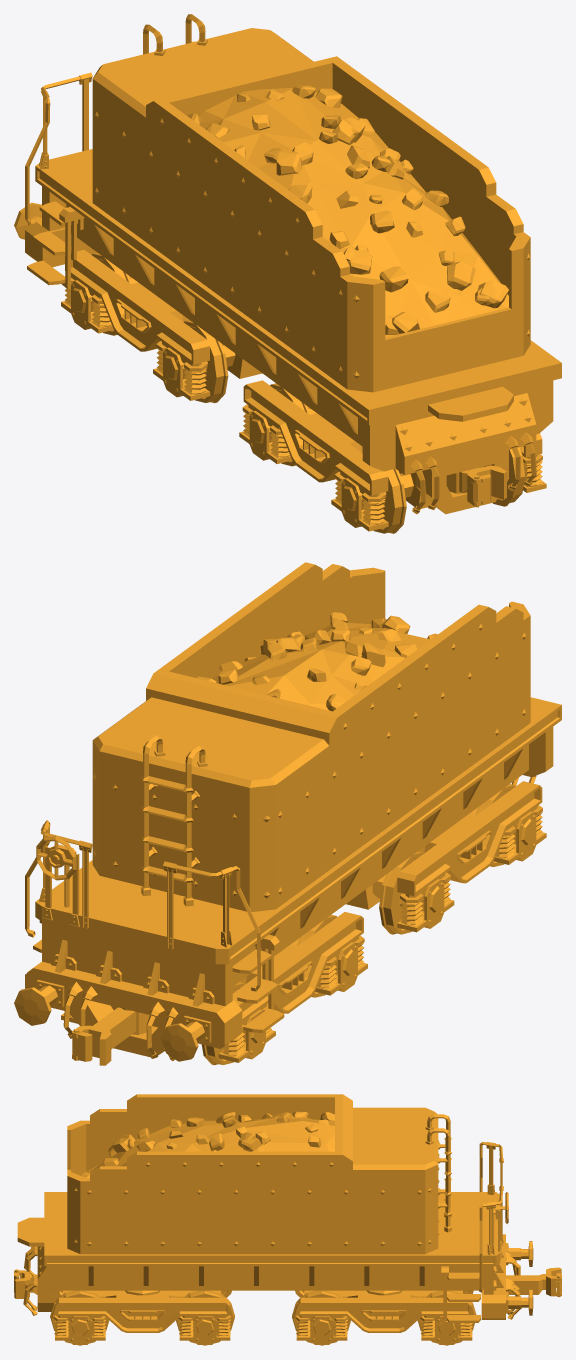
Rendered from SM_Train_Wagon_Steam.fbx.
3 renders of one model, top to bottom at view 1: azimuth 30°, elevation 25°; view 2: azimuth 150°, elevation 25°; view 3: azimuth 270°, elevation 25°, orthographic. The views are drawn at different scales.
Visible parts, largest first — view 1: SM_Train_Wagon_Steam_Base, SM_Train_Wagon_Steam_Base_Chassis_F, SM_Train_Wagon_Steam_Base_Chassis_B, SM_Train_Wagon_Steam_Base_Wheel_F1, SM_Train_Wagon_Steam_Base_Joint_F, SM_Train_Wagon_Steam_Base_Wheel_B1; view 2: SM_Train_Wagon_Steam_Base, SM_Train_Wagon_Steam_Base_Chassis_F, SM_Train_Wagon_Steam_Base_Chassis_B, SM_Train_Wagon_Steam_Base_Joint_B, SM_Train_Wagon_Steam_Base_Wheel_F2; view 3: SM_Train_Wagon_Steam_Base, SM_Train_Wagon_Steam_Base_Chassis_F, SM_Train_Wagon_Steam_Base_Chassis_B, SM_Train_Wagon_Steam_Base_Joint_B, SM_Train_Wagon_Steam_Base_Wheel_F2, SM_Train_Wagon_Steam_Base_Wheel_B1, SM_Train_Wagon_Steam_Base_Wheel_F1, SM_Train_Wagon_Steam_Base_Joint_F, SM_Train_Wagon_Steam_Base_Wheel_B2.
Boxes of the visible parts, x1,y1,x2,y2 form: SM_Train_Wagon_Steam_Base: [14, 14, 561, 514]; SM_Train_Wagon_Steam_Base_Chassis_F: [239, 380, 546, 531]; SM_Train_Wagon_Steam_Base_Chassis_B: [61, 250, 262, 400]; SM_Train_Wagon_Steam_Base_Wheel_F1: [364, 447, 525, 533]; SM_Train_Wagon_Steam_Base_Joint_F: [446, 465, 506, 507]; SM_Train_Wagon_Steam_Base_Wheel_B1: [184, 320, 235, 403]; SM_Train_Wagon_Steam_Base: [14, 562, 561, 1061]; SM_Train_Wagon_Steam_Base_Chassis_F: [346, 781, 546, 932]; SM_Train_Wagon_Steam_Base_Chassis_B: [61, 912, 367, 1062]; SM_Train_Wagon_Steam_Base_Joint_B: [72, 1007, 149, 1065]; SM_Train_Wagon_Steam_Base_Wheel_F2: [372, 851, 423, 934]; SM_Train_Wagon_Steam_Base: [17, 1094, 533, 1322]; SM_Train_Wagon_Steam_Base_Chassis_F: [53, 1290, 231, 1344]; SM_Train_Wagon_Steam_Base_Chassis_B: [295, 1290, 472, 1344]; SM_Train_Wagon_Steam_Base_Joint_B: [506, 1267, 561, 1297]; SM_Train_Wagon_Steam_Base_Wheel_F2: [176, 1290, 234, 1345]; SM_Train_Wagon_Steam_Base_Wheel_B1: [292, 1290, 350, 1345]; SM_Train_Wagon_Steam_Base_Wheel_F1: [50, 1290, 109, 1345]; SM_Train_Wagon_Steam_Base_Joint_F: [14, 1269, 37, 1298]; SM_Train_Wagon_Steam_Base_Wheel_B2: [417, 1290, 476, 1345].
Bounding box in the file's own units: 2.96 × 3.61 × 8.79.
